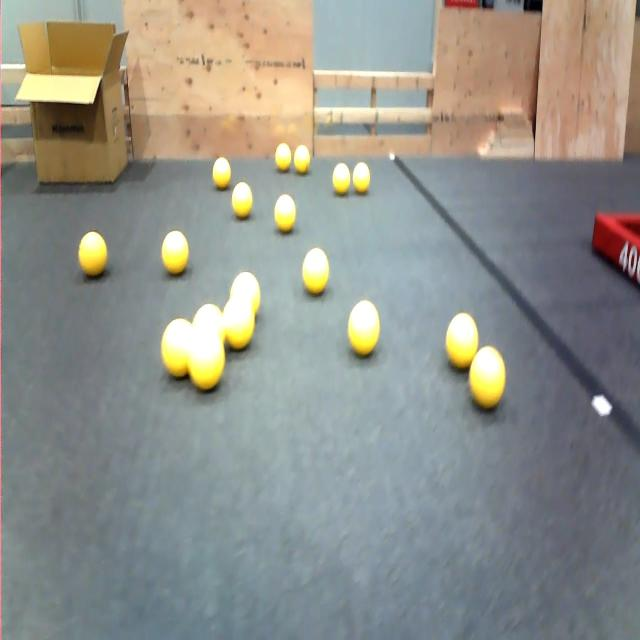fuel: (185, 320, 231, 408), (463, 338, 514, 410), (343, 292, 390, 360), (440, 304, 480, 379), (154, 309, 195, 380), (77, 222, 113, 288), (154, 221, 193, 280), (300, 242, 337, 302), (221, 288, 256, 350), (229, 267, 272, 308), (228, 176, 262, 226), (272, 190, 301, 237), (352, 155, 377, 203), (271, 134, 294, 178), (209, 152, 234, 192), (328, 164, 352, 197), (293, 145, 315, 176)
